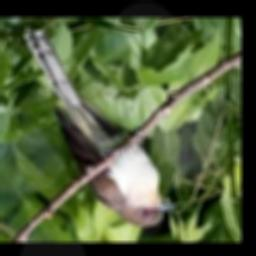Cuckoo: (23, 26, 176, 226)
